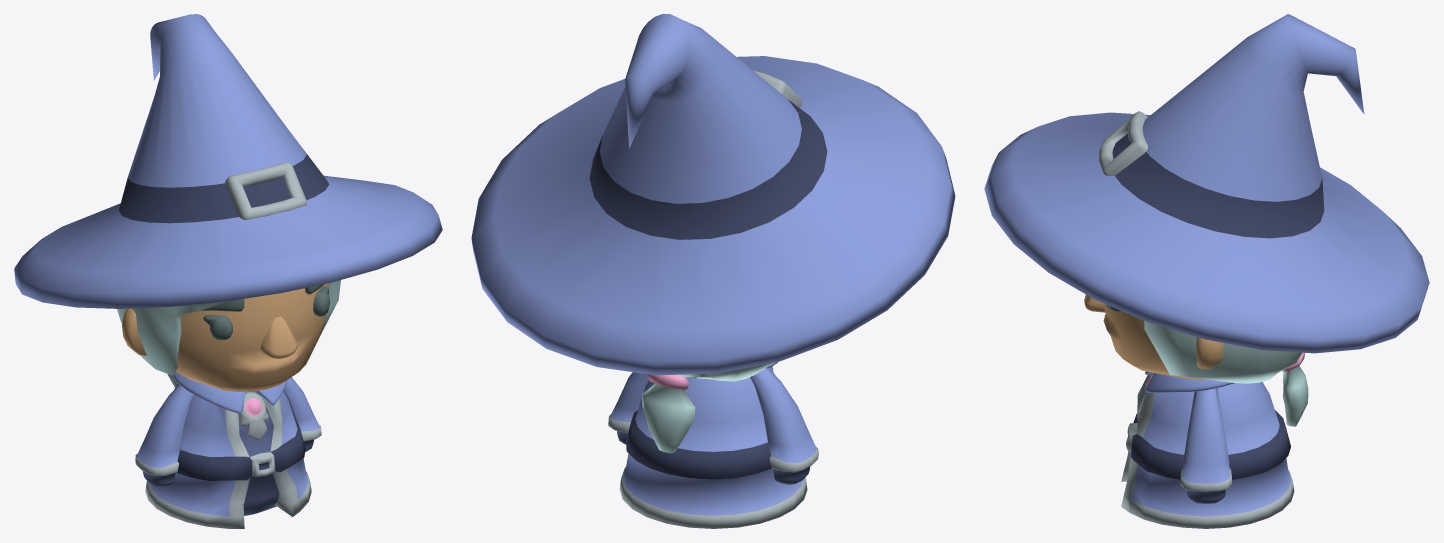
The model's file is mage50.gltf.
The picture shows the model from 3 angles, left to right: view 1: azimuth 30°, elevation 25°; view 2: azimuth 150°, elevation 25°; view 3: azimuth 270°, elevation 25°; orthographic projection. The views are drawn at different scales.
Parts seen in each view (by area): view 1: character_mageHat, character_mageBody, character_mageHead, character_mageArmRight, character_mageHair, character_mageArnLeft; view 2: character_mageHat, character_mageBody, character_mageArmRight, character_mageHair, character_mageArnLeft; view 3: character_mageHat, character_mageBody, character_mageHair, character_mageArnLeft, character_mageHead.
Boxes of the visible parts, x1,y1,x2,y2 form: character_mageHat: [14, 14, 442, 308]; character_mageBody: [145, 372, 311, 528]; character_mageHead: [122, 283, 329, 391]; character_mageArmRight: [135, 384, 194, 487]; character_mageHair: [117, 280, 340, 387]; character_mageArnLeft: [284, 377, 321, 451]; character_mageHat: [471, 14, 955, 375]; character_mageBody: [619, 362, 807, 528]; character_mageArmRight: [750, 368, 818, 484]; character_mageHair: [641, 362, 774, 453]; character_mageArnLeft: [608, 372, 648, 444]; character_mageHat: [984, 14, 1429, 353]; character_mageBody: [1121, 371, 1294, 528]; character_mageHair: [1144, 320, 1308, 426]; character_mageArnLeft: [1180, 388, 1231, 503]; character_mageHead: [1084, 294, 1223, 380].
Bounding box in the file's own units: 2.1 × 2.44 × 2.05.
